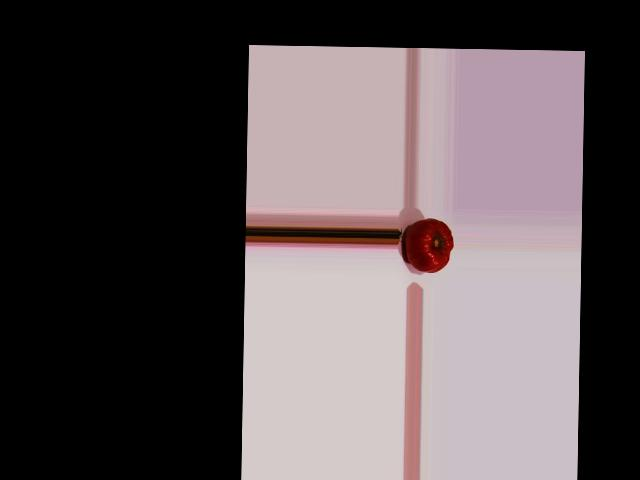tomato: (404, 218, 453, 272)
